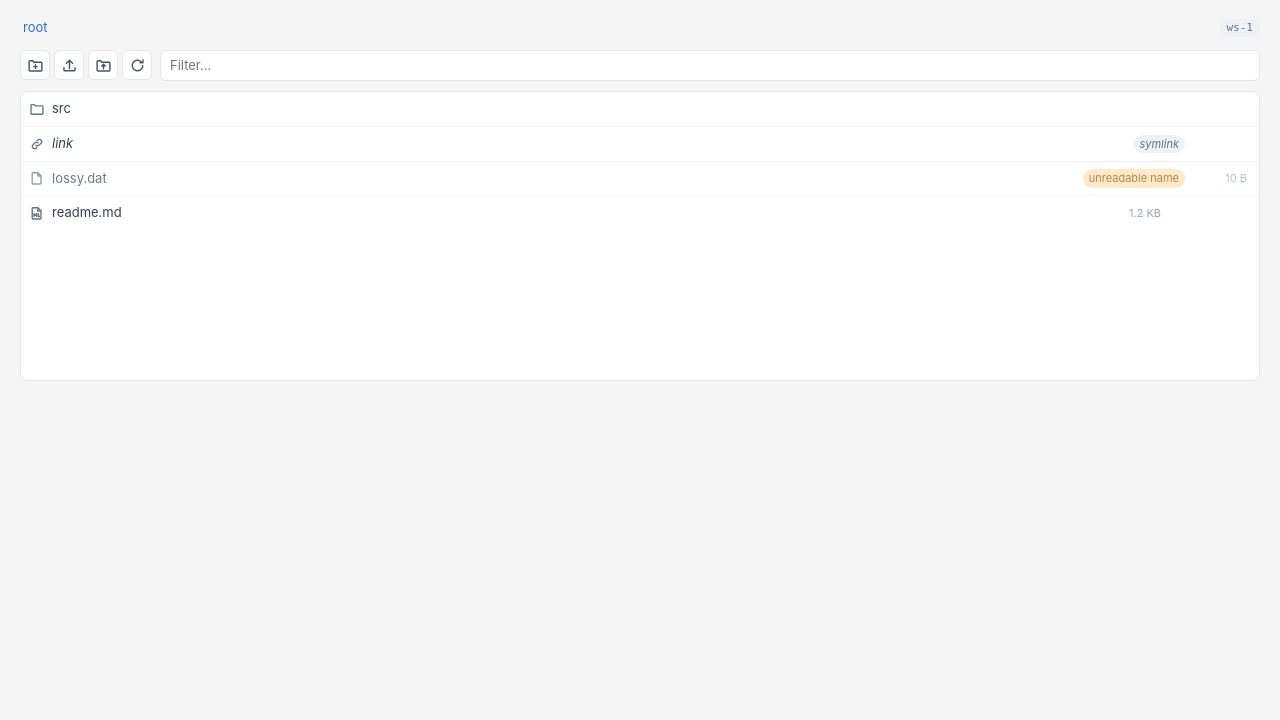
FileBrowser new folder › disables Create while the name is blank
Click the button with test id "file-browser-new-folder".
click(35, 65)  # box x1=20 y1=50 x2=50 y2=80
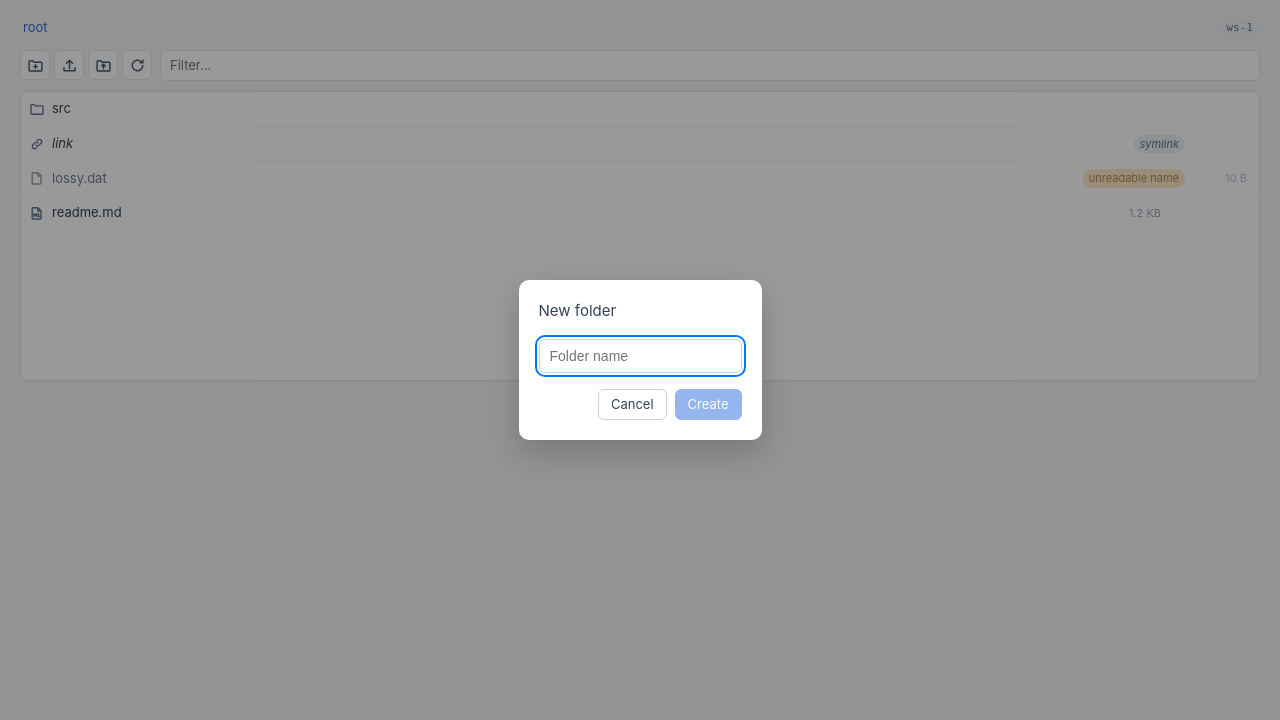
Expected: the button with test id "file-browser-new-folder-confirm" is disabled, x1=675 y1=388 x2=742 y2=420
Type "docs" into the field with test id "file-browser-new-folder-input".
click(640, 356); type("docs")  # box x1=538 y1=338 x2=742 y2=372
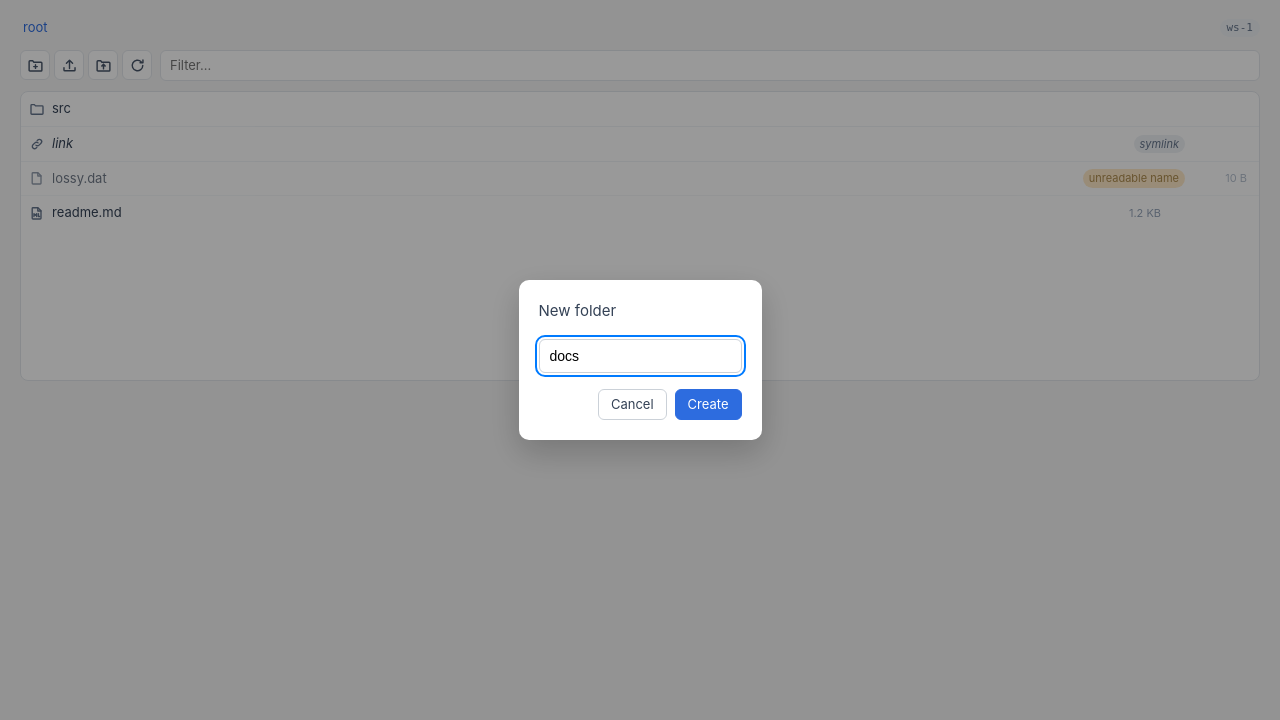
Expected: the button with test id "file-browser-new-folder-confirm" is enabled, x1=675 y1=388 x2=742 y2=420
